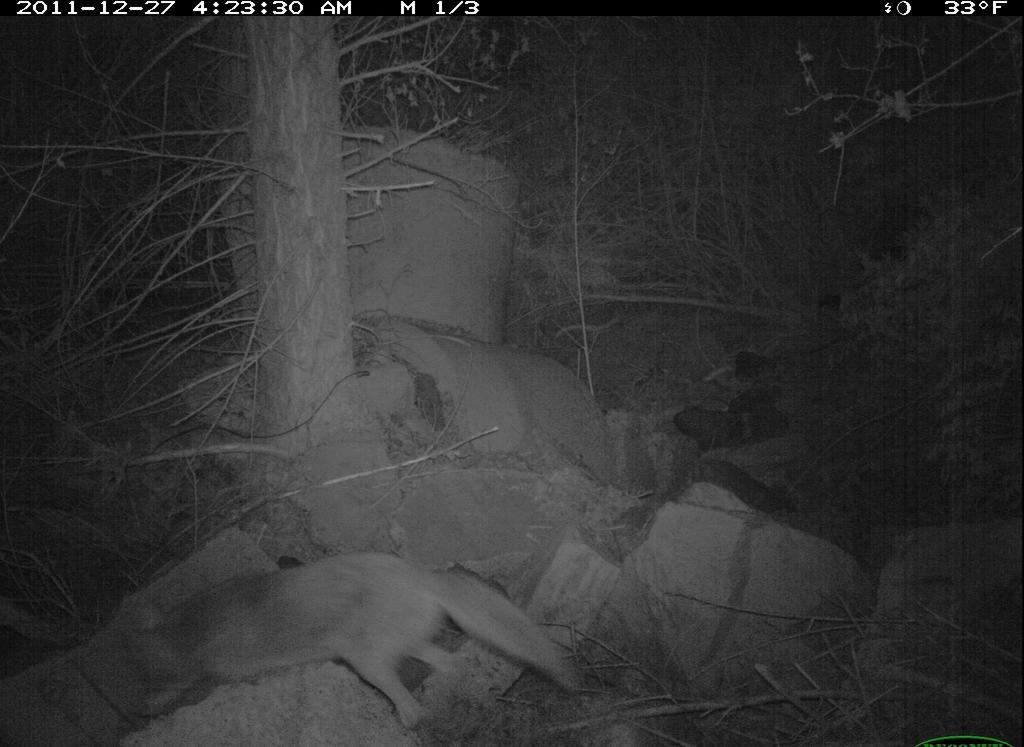coyote: (127, 546, 583, 720)
